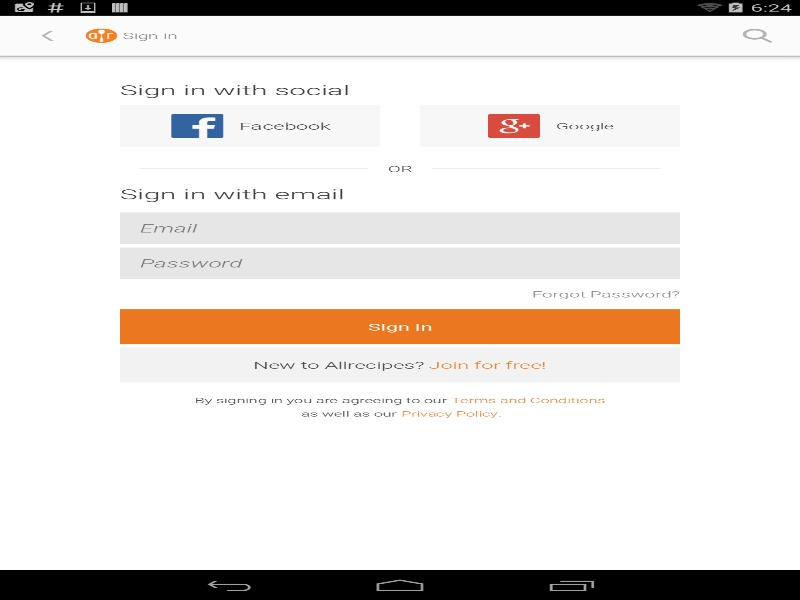Button: (120, 309, 680, 344), (239, 108, 330, 143), (10, 15, 85, 55)
Input: (120, 212, 680, 243), (120, 247, 680, 278)
